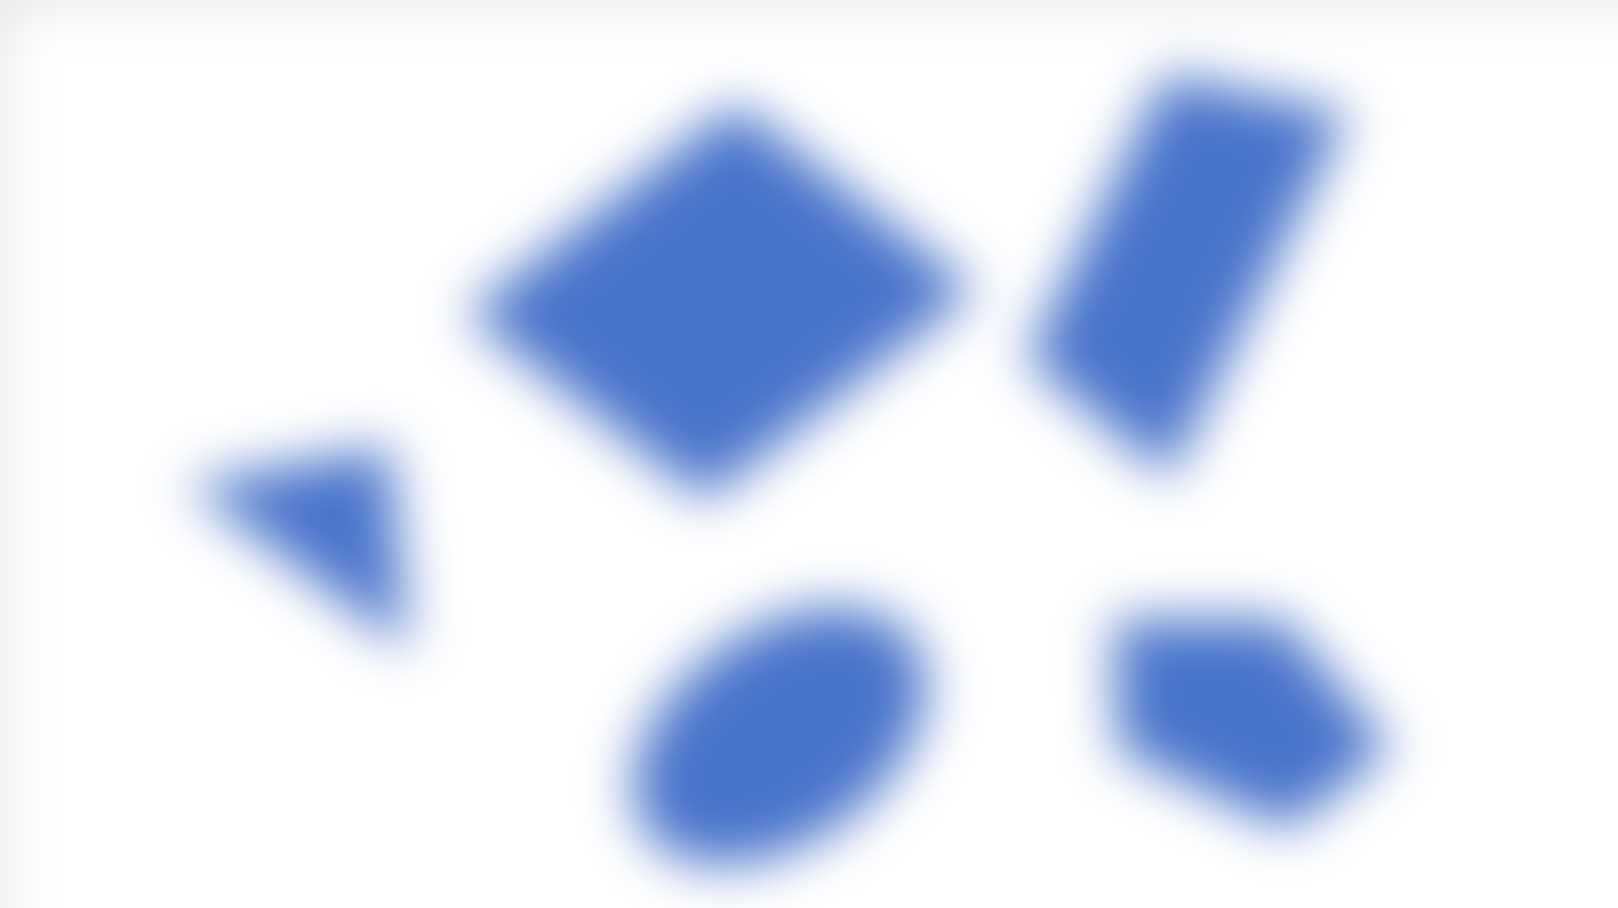circle: (607, 585, 948, 880)
parallelogram: (463, 113, 995, 472)
pentagon: (1089, 586, 1415, 854)
trapezium: (1018, 70, 1342, 466)
triangle: (179, 438, 463, 658)
